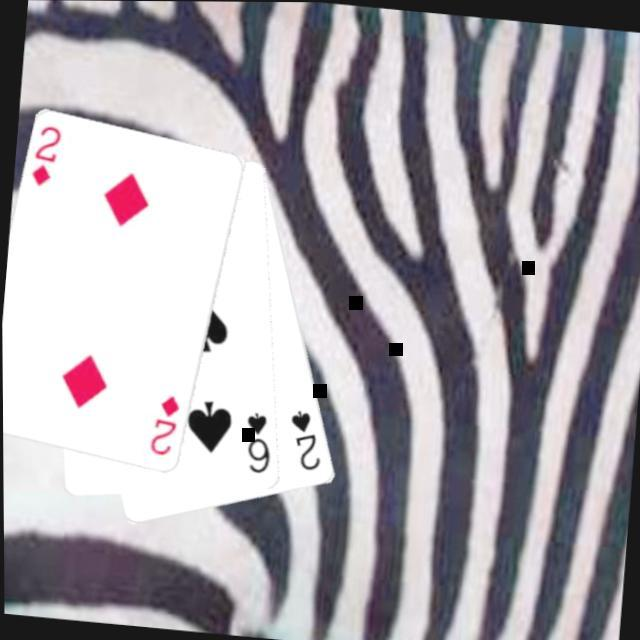2D: (24, 118, 63, 188), (143, 388, 181, 458)
2S: (280, 403, 326, 472)
6S: (236, 405, 274, 475)
